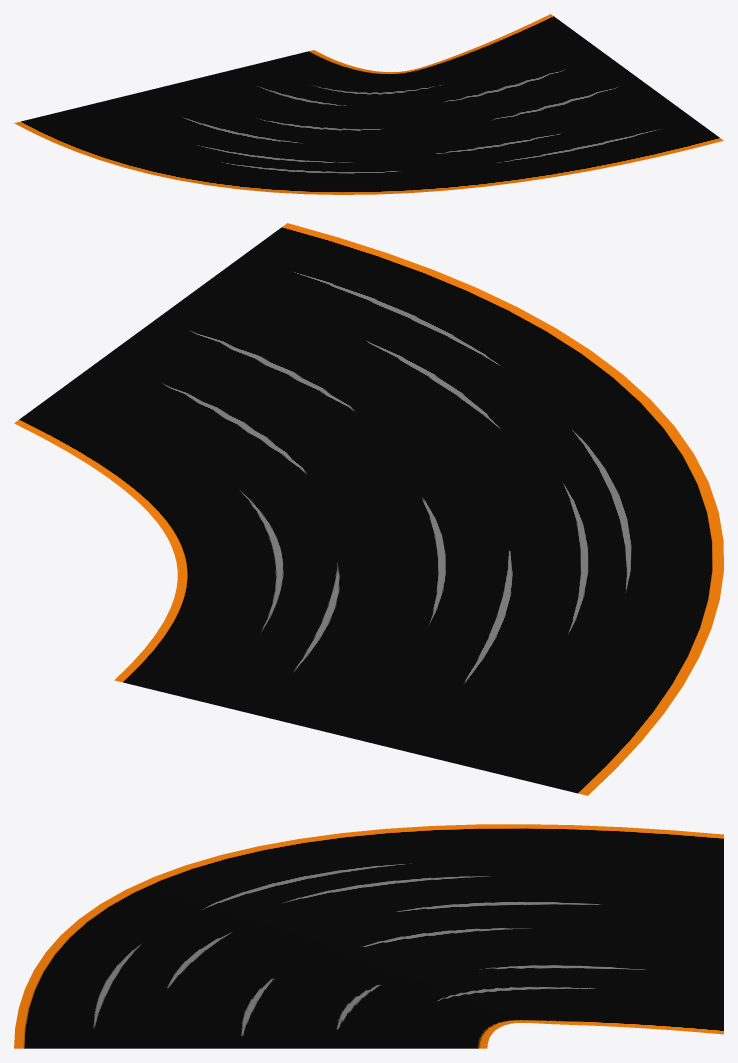
The model's file is TrackTurnHalflIncline.fbx.
3 renders of one model, top to bottom at view 1: azimuth 30°, elevation 25°; view 2: azimuth 150°, elevation 25°; view 3: azimuth 270°, elevation 25°, orthographic. The views are drawn at different scales.
Visible parts, largest first — view 1: TurnHalf; view 2: TurnHalf; view 3: TurnHalf.
Boxes of the visible parts, left/top/right/bottom form: TurnHalf: left=14, top=14, right=723, bottom=194; TurnHalf: left=14, top=223, right=723, bottom=795; TurnHalf: left=14, top=824, right=723, bottom=1048.
Size of the model in its own units: 150 by 20.01 by 150.
